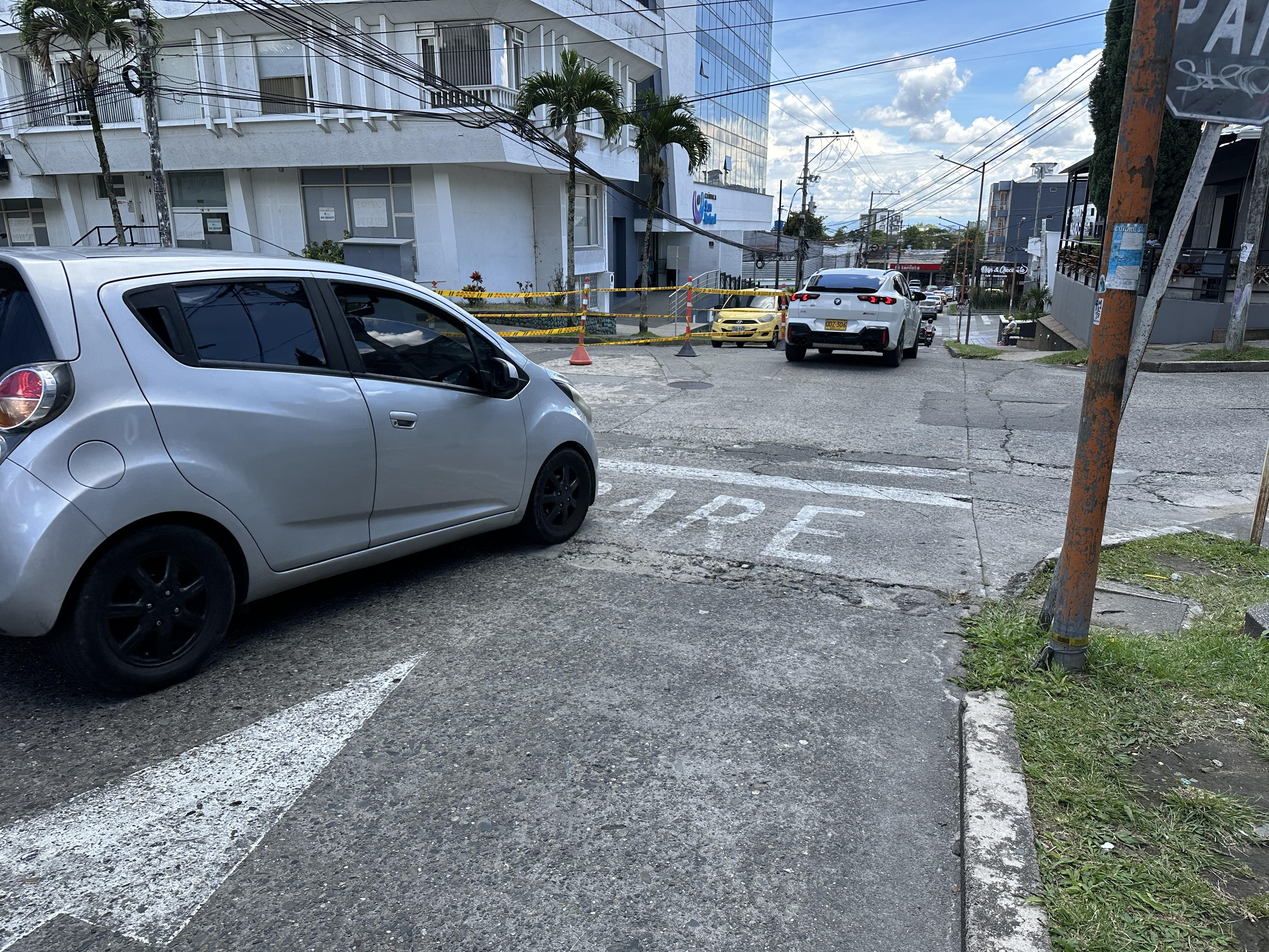bache: (528, 539, 972, 622), (816, 448, 862, 460), (706, 441, 759, 451), (945, 496, 973, 503)
grieta: (977, 396, 1072, 469), (1108, 481, 1174, 505)
registro: (668, 381, 713, 389)
